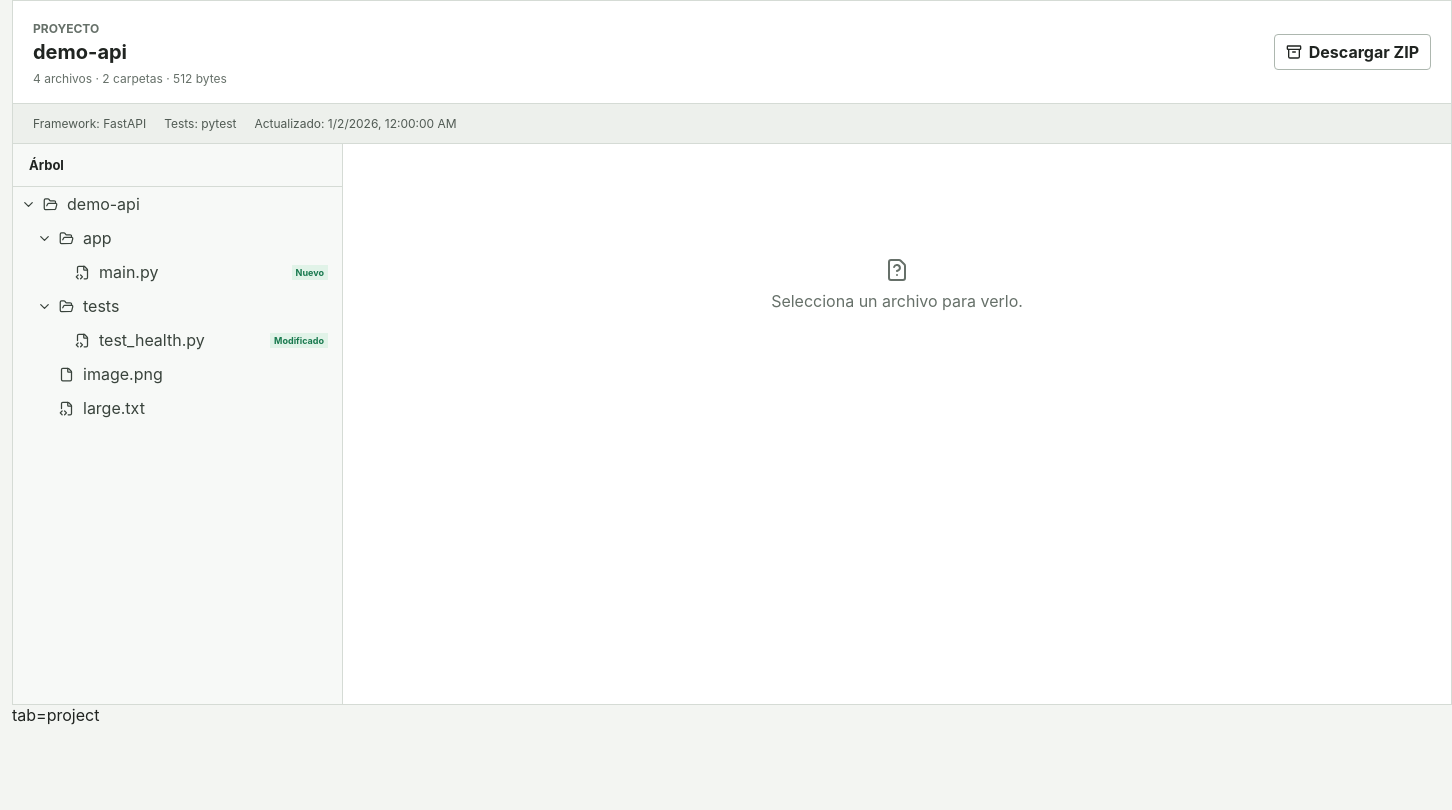
Test case: ProjectExplorer › updates query params when selecting a file
The width and height of the screenshot is (1452, 810).
Click the button "main.py Nuevo".
click(129, 272)  # box [13,255,342,289]
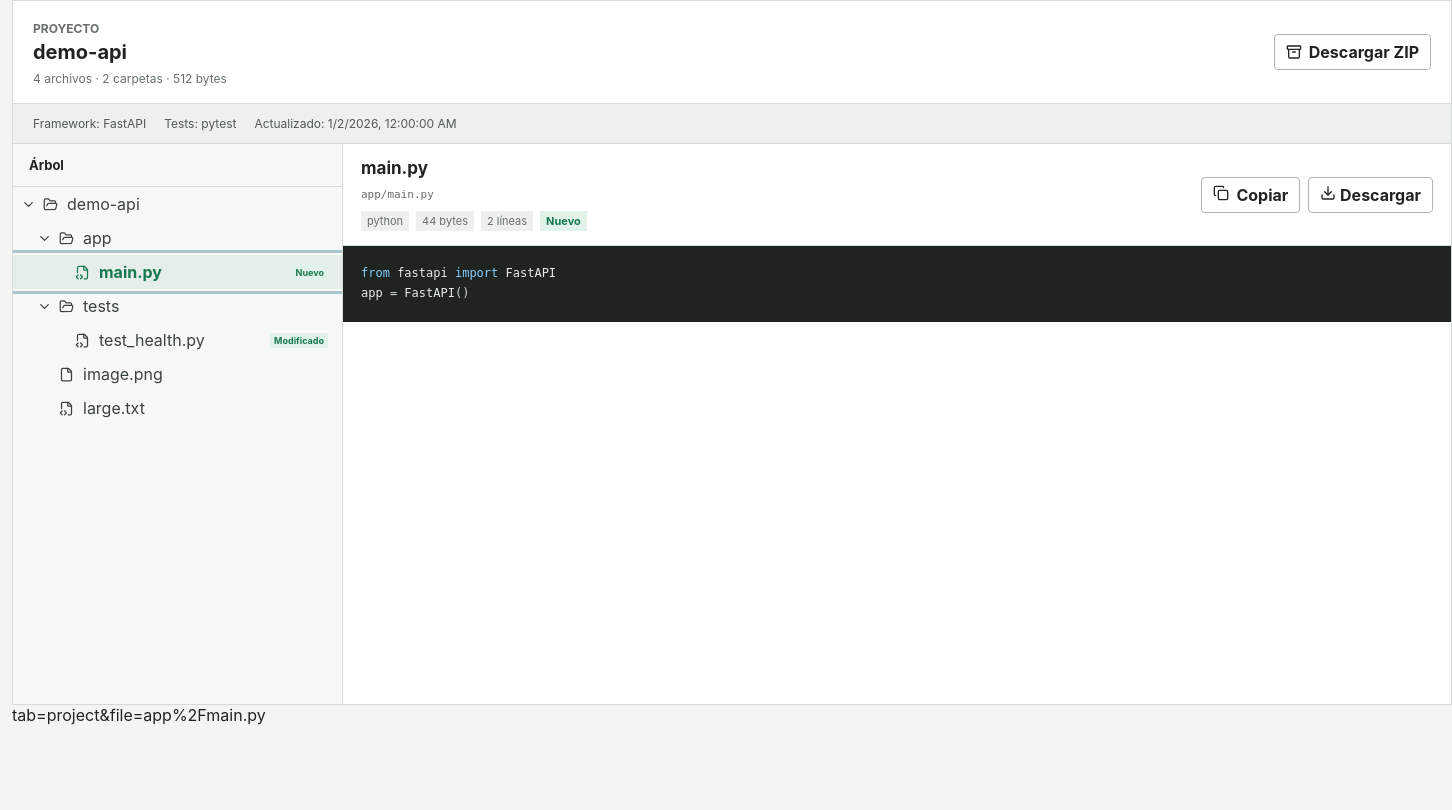
Check: the text with test id "query" shows "file=app%2Fmain.py", box [12,705,266,725]
